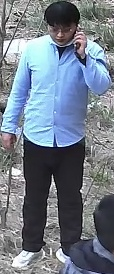phone: (60, 22, 112, 98)
